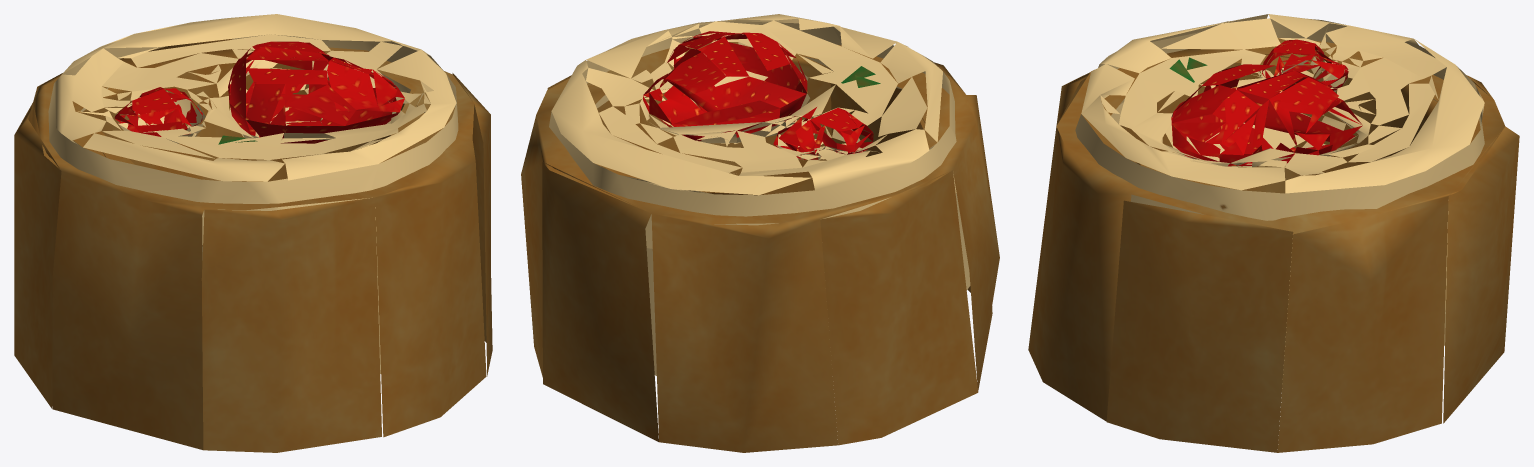
Rendered from Tart.002_LOD2.fbx.
3 views of the same model, side by side, from view 1: azimuth 30°, elevation 25°; view 2: azimuth 150°, elevation 25°; view 3: azimuth 270°, elevation 25° (orthographic).
Visible parts, largest first — view 1: Tart_002_Tart_002_0; view 2: Tart_002_Tart_002_0; view 3: Tart_002_Tart_002_0.
Part boxes in pixels (x1=…): Tart_002_Tart_002_0: x1=14, y1=14, x2=492, y2=452; Tart_002_Tart_002_0: x1=521, y1=14, x2=999, y2=452; Tart_002_Tart_002_0: x1=1028, y1=14, x2=1519, y2=452.
Bounding box in the file's own units: 56.6 × 38.42 × 57.9.
1 material, 1 textured.
